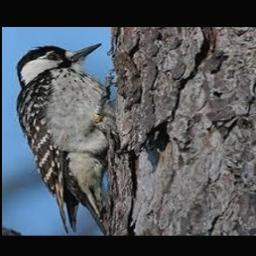Woodpecker: (15, 43, 143, 235)
